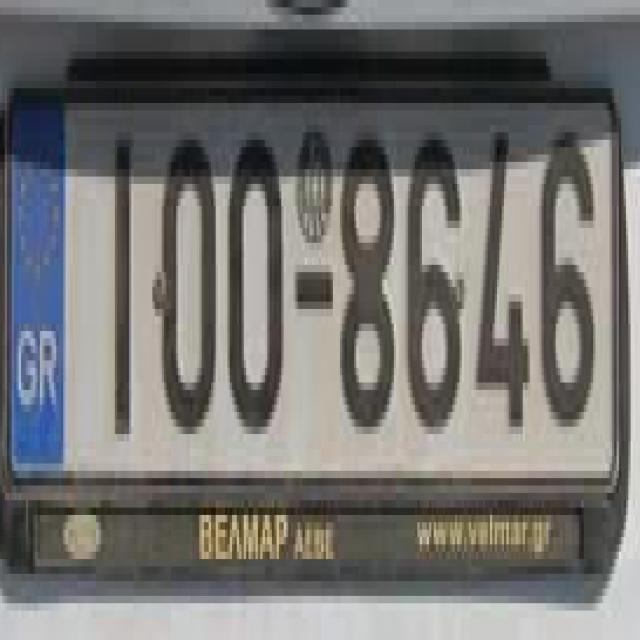EU: (6, 87, 616, 502)
Grece: (13, 96, 63, 467)
